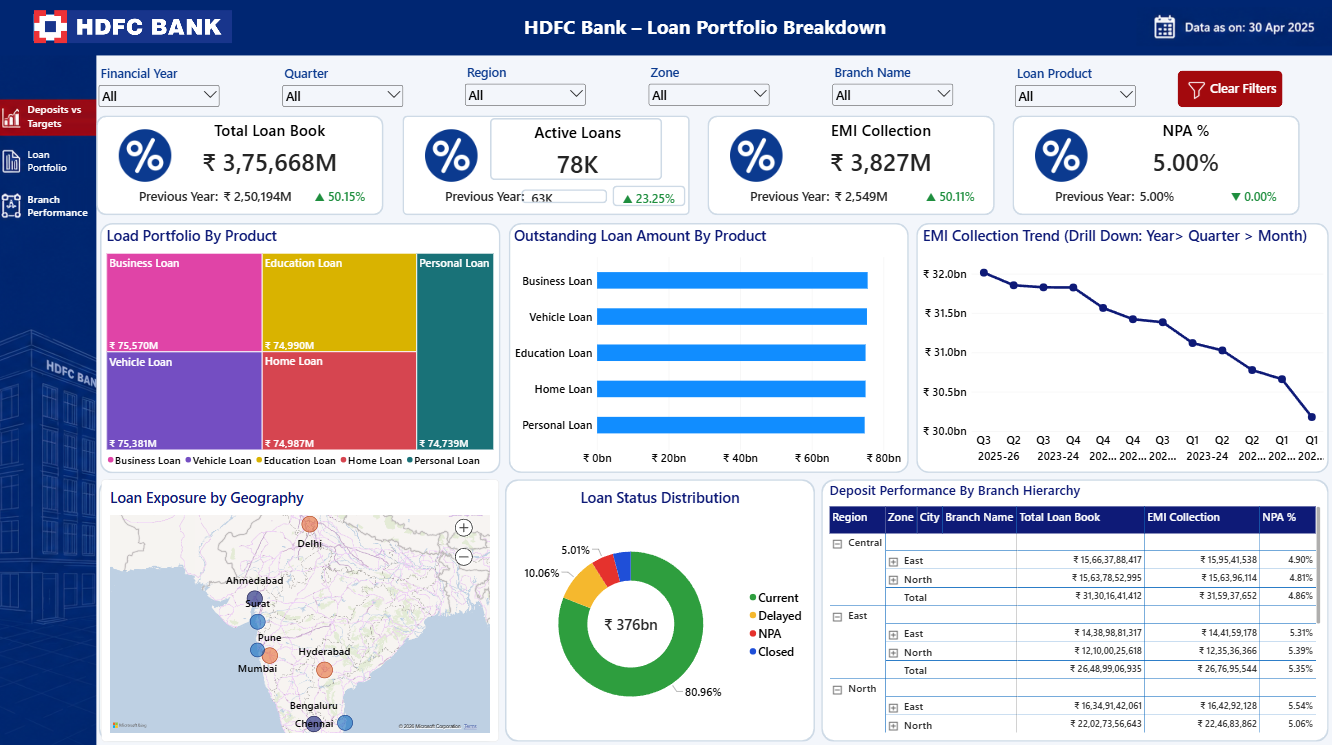

The page's visual inventory and layout, read from the dashboard file:
{"tool":"powerbi","page":{"name":"Loan Portfolio","canvas":[1920,1080],"ordinal":1},"visuals":[{"type":"shape","box":[1.1,-0.3,1920,96],"z":0},{"type":"shape","box":[1.1,-0.3,251.5,1067.7],"z":1000},{"type":"image","box":[84.1,17.7,85,74],"z":2000},{"type":"textbox","box":[171.1,17.7,298,74],"z":3000},{"type":"textbox","box":[481.1,23.7,1100,56],"z":4000},{"type":"image","box":[1663.1,24.7,38,60],"z":5000},{"type":"textbox","box":[1715.1,36.7,205,45],"z":6000},{"type":"image","box":[15.1,205.7,56,52],"z":7000},{"type":"textbox","box":[76.1,213.7,172,40],"z":8000},{"type":"shape","box":[9.1,304.7,235,72],"z":9000},{"type":"image","box":[15.1,312.7,56,52],"z":10000},{"type":"textbox","box":[76.1,320.7,172,40],"z":11000},{"type":"shape","box":[9.1,197.7,235,72],"z":14000},{"type":"textbox","box":[1751.1,112.2,168.8,45.4],"z":16000},{"type":"image","box":[1753.1,112.2,48,45.4],"z":17000},{"type":"slicer","fields":{"Values":["DimDate.FY Start Year"]},"box":[295.1,112.2,220,84],"z":18000},{"type":"slicer","fields":{"Values":["DimDate.FY Quarter"]},"box":[535.1,112.2,220,84],"z":19000},{"type":"slicer","fields":{"Values":["DimBranch.Region"]},"box":[775.1,112.2,220,84],"z":20000},{"type":"slicer","fields":{"Values":["DimBranch.Zone"]},"box":[1015.1,112.2,220,84],"z":21000},{"type":"slicer","fields":{"Values":["DimBranch.BranchName"]},"box":[1255.1,112.2,220,84],"z":22000},{"type":"slicer","fields":{"Values":["DimProduct.ProductName"]},"box":[1495.1,112.2,220,84],"z":23000},{"type":"shape","box":[295.1,200.7,385,121],"z":24000},{"type":"image","box":[309.1,230.7,66,62],"z":25000,"group":"g1"},{"type":"textbox","box":[385.1,208.7,285,28],"z":26000,"group":"g1"},{"type":"card","fields":{"Values":["Mesure Table.Card Loan Book"]},"box":[384.2,235.6,285.7,62.8],"z":27000,"group":"g1"},{"type":"card","fields":{"Values":["Mesure Table.Sub Loan Book"]},"box":[385.1,286.7,285,30],"z":28000},{"type":"shape","box":[700.1,200.7,385,121],"z":29000},{"type":"image","box":[714.1,230.7,66,62],"z":30000},{"type":"textbox","box":[790.1,208.7,285,28],"z":31000,"group":"g2"},{"type":"card","fields":{"Values":["Mesure Table.Card Active Loans"]},"box":[791,235.6,294.3,77.9],"z":32000,"group":"g2"},{"type":"card","fields":{"Values":["Mesure Table.Sub Active Loans"]},"box":[790.1,286.7,285,30],"z":33000},{"type":"shape","box":[1105.1,200.7,385,121],"z":34000},{"type":"image","box":[1119.1,230.7,66,62],"z":35000,"group":"g3"},{"type":"textbox","box":[1195.1,208.7,285,28],"z":36000,"group":"g3"},{"type":"card","fields":{"Values":["Mesure Table.Card EMI Collection"]},"box":[1195.7,235.6,285.7,62.8],"z":37000,"group":"g3"},{"type":"card","fields":{"Values":["Mesure Table.Sub EMI Collection"]},"box":[1195.1,286.7,285,30],"z":38000},{"type":"shape","box":[1510.1,200.7,385,121],"z":39000},{"type":"image","box":[1524.1,230.7,66,62],"z":40000,"group":"g4"},{"type":"textbox","box":[1600.1,208.7,285,28],"z":41000,"group":"g4"},{"type":"card","fields":{"Values":["Mesure Table.Card Avg Loan Size"]},"box":[1600.4,235.6,285.7,69.3],"z":42000,"group":"g4"},{"type":"card","fields":{"Values":["Mesure Table.Sub Avg Loan Size"]},"box":[1600.1,286.7,285,30],"z":43000},{"type":"treemap","title":"Loan Portfolio by Product (₹ Cr)","fields":{"Group":["DimProduct.ProductName"],"Values":["Mesure Table.Total Loan Book"]},"box":[262.9,332.9,515,290],"z":44000},{"type":"barChart","title":"Outstanding Loan Amount by Product (₹ Cr)","fields":{"Category":["DimProduct.ProductName"],"Y":["Mesure Table.Total Loan Book"]},"box":[814.1,332.7,497,290],"z":45000},{"type":"lineChart","title":"EMI Collection Trend (Drill down: Year > Quarter > Month)","fields":{"Category":["DimDate.Date.Variation.Date Hierarchy.Year","DimDate.Date.Variation.Date Hierarchy.Quarter","DimDate.Date.Variation.Date Hierarchy.Month","DimDate.Date.Variation.Date Hierarchy.Day"],"Y":["Mesure Table.EMI Collection"]},"box":[1326.1,332.7,570,290],"z":46000},{"type":"map","title":"Loan Exposure by Geography (₹ Cr)","fields":{"Category":["DimBranch.City"],"Series":["CityBands.Loan Band"],"Size":["Mesure Table.Total Loan Book"]},"box":[284.1,637.7,528,365],"z":47000},{"type":"donutChart","title":"Loan Book by Region (₹ Cr)","fields":{"Category":["DimBranch.Region"],"Y":["Mesure Table.Total Loan Book"]},"box":[804.6,640.3,366,365],"z":48000},{"type":"pivotTable","title":"Loan Portfolio Matrix (Drill down: Region > Zone > Branch)","fields":{"Rows":["DimBranch.Region","DimBranch.Zone","DimBranch.BranchName"],"Values":["Mesure Table.Total Loan Book","Mesure Table.EMI Collection","Mesure Table.Active Loans","Mesure Table.Loan Book Share %"]},"box":[1204.1,637.7,692,365],"z":49000},{"type":"shape","box":[284.1,1017.7,1612,60],"z":50000},{"type":"textbox","box":[301.1,1025.7,130,44],"z":51000},{"type":"card","fields":{"Values":["Mesure Table.Insight Loan Growth"]},"box":[441.1,1025.7,360,44],"z":52000},{"type":"card","fields":{"Values":["Mesure Table.Insight Top Loan Product"]},"box":[804.1,1025.7,360,44],"z":53000},{"type":"card","fields":{"Values":["Mesure Table.Insight Top Loan Region"]},"box":[1167.1,1025.7,360,44],"z":54000},{"type":"card","fields":{"Values":["Mesure Table.Insight EMI Growth"]},"box":[1530.1,1025.7,360,44],"z":55000},{"type":"image","box":[734.7,235.6,66,62],"z":55001,"group":"g2"},{"type":"group","id":"g1","title":"Group 1","box":[309.1,208.7,361,89.7],"z":55002,"group":"g2"},{"type":"group","id":"g2","title":"Group 2","box":[309.1,208.7,776.2,104.8],"z":55003,"group":"g3"},{"type":"group","id":"g3","title":"Group 3","box":[309.1,208.7,1172.3,104.8],"z":55004},{"type":"group","id":"g4","title":"Group 4","box":[1524.1,208.7,362,96.1],"z":55005},{"type":"image","box":[15.1,400.4,53.7,118.9],"z":55006,"group":"g5"},{"type":"textbox","box":[71.8,427.1,147.2,129.8],"z":55007,"group":"g5"},{"type":"group","id":"g5","title":"Group 5","box":[15.1,400.4,203.4,155.8],"z":55008},{"type":"image","box":[13,556.2,231.6,424.2],"z":55009}]}

Visuals, with their boxes on the page's 1920x1080 design canvas (x1, y1, x2, y2). These are canvas units, not pixel positions in the 1332x745 screenshot, which may show the page scaled, cropped or inside an application window:
shape: (x1=1, y1=0, x2=1921, y2=96)
shape: (x1=1, y1=0, x2=253, y2=1067)
image: (x1=84, y1=18, x2=169, y2=92)
textbox: (x1=171, y1=18, x2=469, y2=92)
textbox: (x1=481, y1=24, x2=1581, y2=80)
image: (x1=1663, y1=25, x2=1701, y2=85)
textbox: (x1=1715, y1=37, x2=1920, y2=82)
image: (x1=15, y1=206, x2=71, y2=258)
textbox: (x1=76, y1=214, x2=248, y2=254)
shape: (x1=9, y1=305, x2=244, y2=377)
image: (x1=15, y1=313, x2=71, y2=365)
textbox: (x1=76, y1=321, x2=248, y2=361)
shape: (x1=9, y1=198, x2=244, y2=270)
textbox: (x1=1751, y1=112, x2=1920, y2=158)
image: (x1=1753, y1=112, x2=1801, y2=158)
slicer - DimDate.FY Start Year: (x1=295, y1=112, x2=515, y2=196)
slicer - DimDate.FY Quarter: (x1=535, y1=112, x2=755, y2=196)
slicer - DimBranch.Region: (x1=775, y1=112, x2=995, y2=196)
slicer - DimBranch.Zone: (x1=1015, y1=112, x2=1235, y2=196)
slicer - DimBranch.BranchName: (x1=1255, y1=112, x2=1475, y2=196)
slicer - DimProduct.ProductName: (x1=1495, y1=112, x2=1715, y2=196)
shape: (x1=295, y1=201, x2=680, y2=322)
image: (x1=309, y1=231, x2=375, y2=293)
textbox: (x1=385, y1=209, x2=670, y2=237)
card - Mesure Table.Card Loan Book: (x1=384, y1=236, x2=670, y2=298)
card - Mesure Table.Sub Loan Book: (x1=385, y1=287, x2=670, y2=317)
shape: (x1=700, y1=201, x2=1085, y2=322)
image: (x1=714, y1=231, x2=780, y2=293)
textbox: (x1=790, y1=209, x2=1075, y2=237)
card - Mesure Table.Card Active Loans: (x1=791, y1=236, x2=1085, y2=314)
card - Mesure Table.Sub Active Loans: (x1=790, y1=287, x2=1075, y2=317)
shape: (x1=1105, y1=201, x2=1490, y2=322)
image: (x1=1119, y1=231, x2=1185, y2=293)
textbox: (x1=1195, y1=209, x2=1480, y2=237)
card - Mesure Table.Card EMI Collection: (x1=1196, y1=236, x2=1481, y2=298)
card - Mesure Table.Sub EMI Collection: (x1=1195, y1=287, x2=1480, y2=317)
shape: (x1=1510, y1=201, x2=1895, y2=322)
image: (x1=1524, y1=231, x2=1590, y2=293)
textbox: (x1=1600, y1=209, x2=1885, y2=237)
card - Mesure Table.Card Avg Loan Size: (x1=1600, y1=236, x2=1886, y2=305)
card - Mesure Table.Sub Avg Loan Size: (x1=1600, y1=287, x2=1885, y2=317)
"Loan Portfolio by Product (₹ Cr)" treemap: (x1=263, y1=333, x2=778, y2=623)
"Outstanding Loan Amount by Product (₹ Cr)" barChart: (x1=814, y1=333, x2=1311, y2=623)
"EMI Collection Trend (Drill down: Year > Quarter > Month)" lineChart: (x1=1326, y1=333, x2=1896, y2=623)
"Loan Exposure by Geography (₹ Cr)" map: (x1=284, y1=638, x2=812, y2=1003)
"Loan Book by Region (₹ Cr)" donutChart: (x1=805, y1=640, x2=1171, y2=1005)
"Loan Portfolio Matrix (Drill down: Region > Zone > Branch)" pivotTable: (x1=1204, y1=638, x2=1896, y2=1003)
shape: (x1=284, y1=1018, x2=1896, y2=1078)
textbox: (x1=301, y1=1026, x2=431, y2=1070)
card - Mesure Table.Insight Loan Growth: (x1=441, y1=1026, x2=801, y2=1070)
card - Mesure Table.Insight Top Loan Product: (x1=804, y1=1026, x2=1164, y2=1070)
card - Mesure Table.Insight Top Loan Region: (x1=1167, y1=1026, x2=1527, y2=1070)
card - Mesure Table.Insight EMI Growth: (x1=1530, y1=1026, x2=1890, y2=1070)
image: (x1=735, y1=236, x2=801, y2=298)
"Group 1" group: (x1=309, y1=209, x2=670, y2=298)
"Group 2" group: (x1=309, y1=209, x2=1085, y2=314)
"Group 3" group: (x1=309, y1=209, x2=1481, y2=314)
"Group 4" group: (x1=1524, y1=209, x2=1886, y2=305)
image: (x1=15, y1=400, x2=69, y2=519)
textbox: (x1=72, y1=427, x2=219, y2=557)
"Group 5" group: (x1=15, y1=400, x2=218, y2=556)
image: (x1=13, y1=556, x2=245, y2=980)
